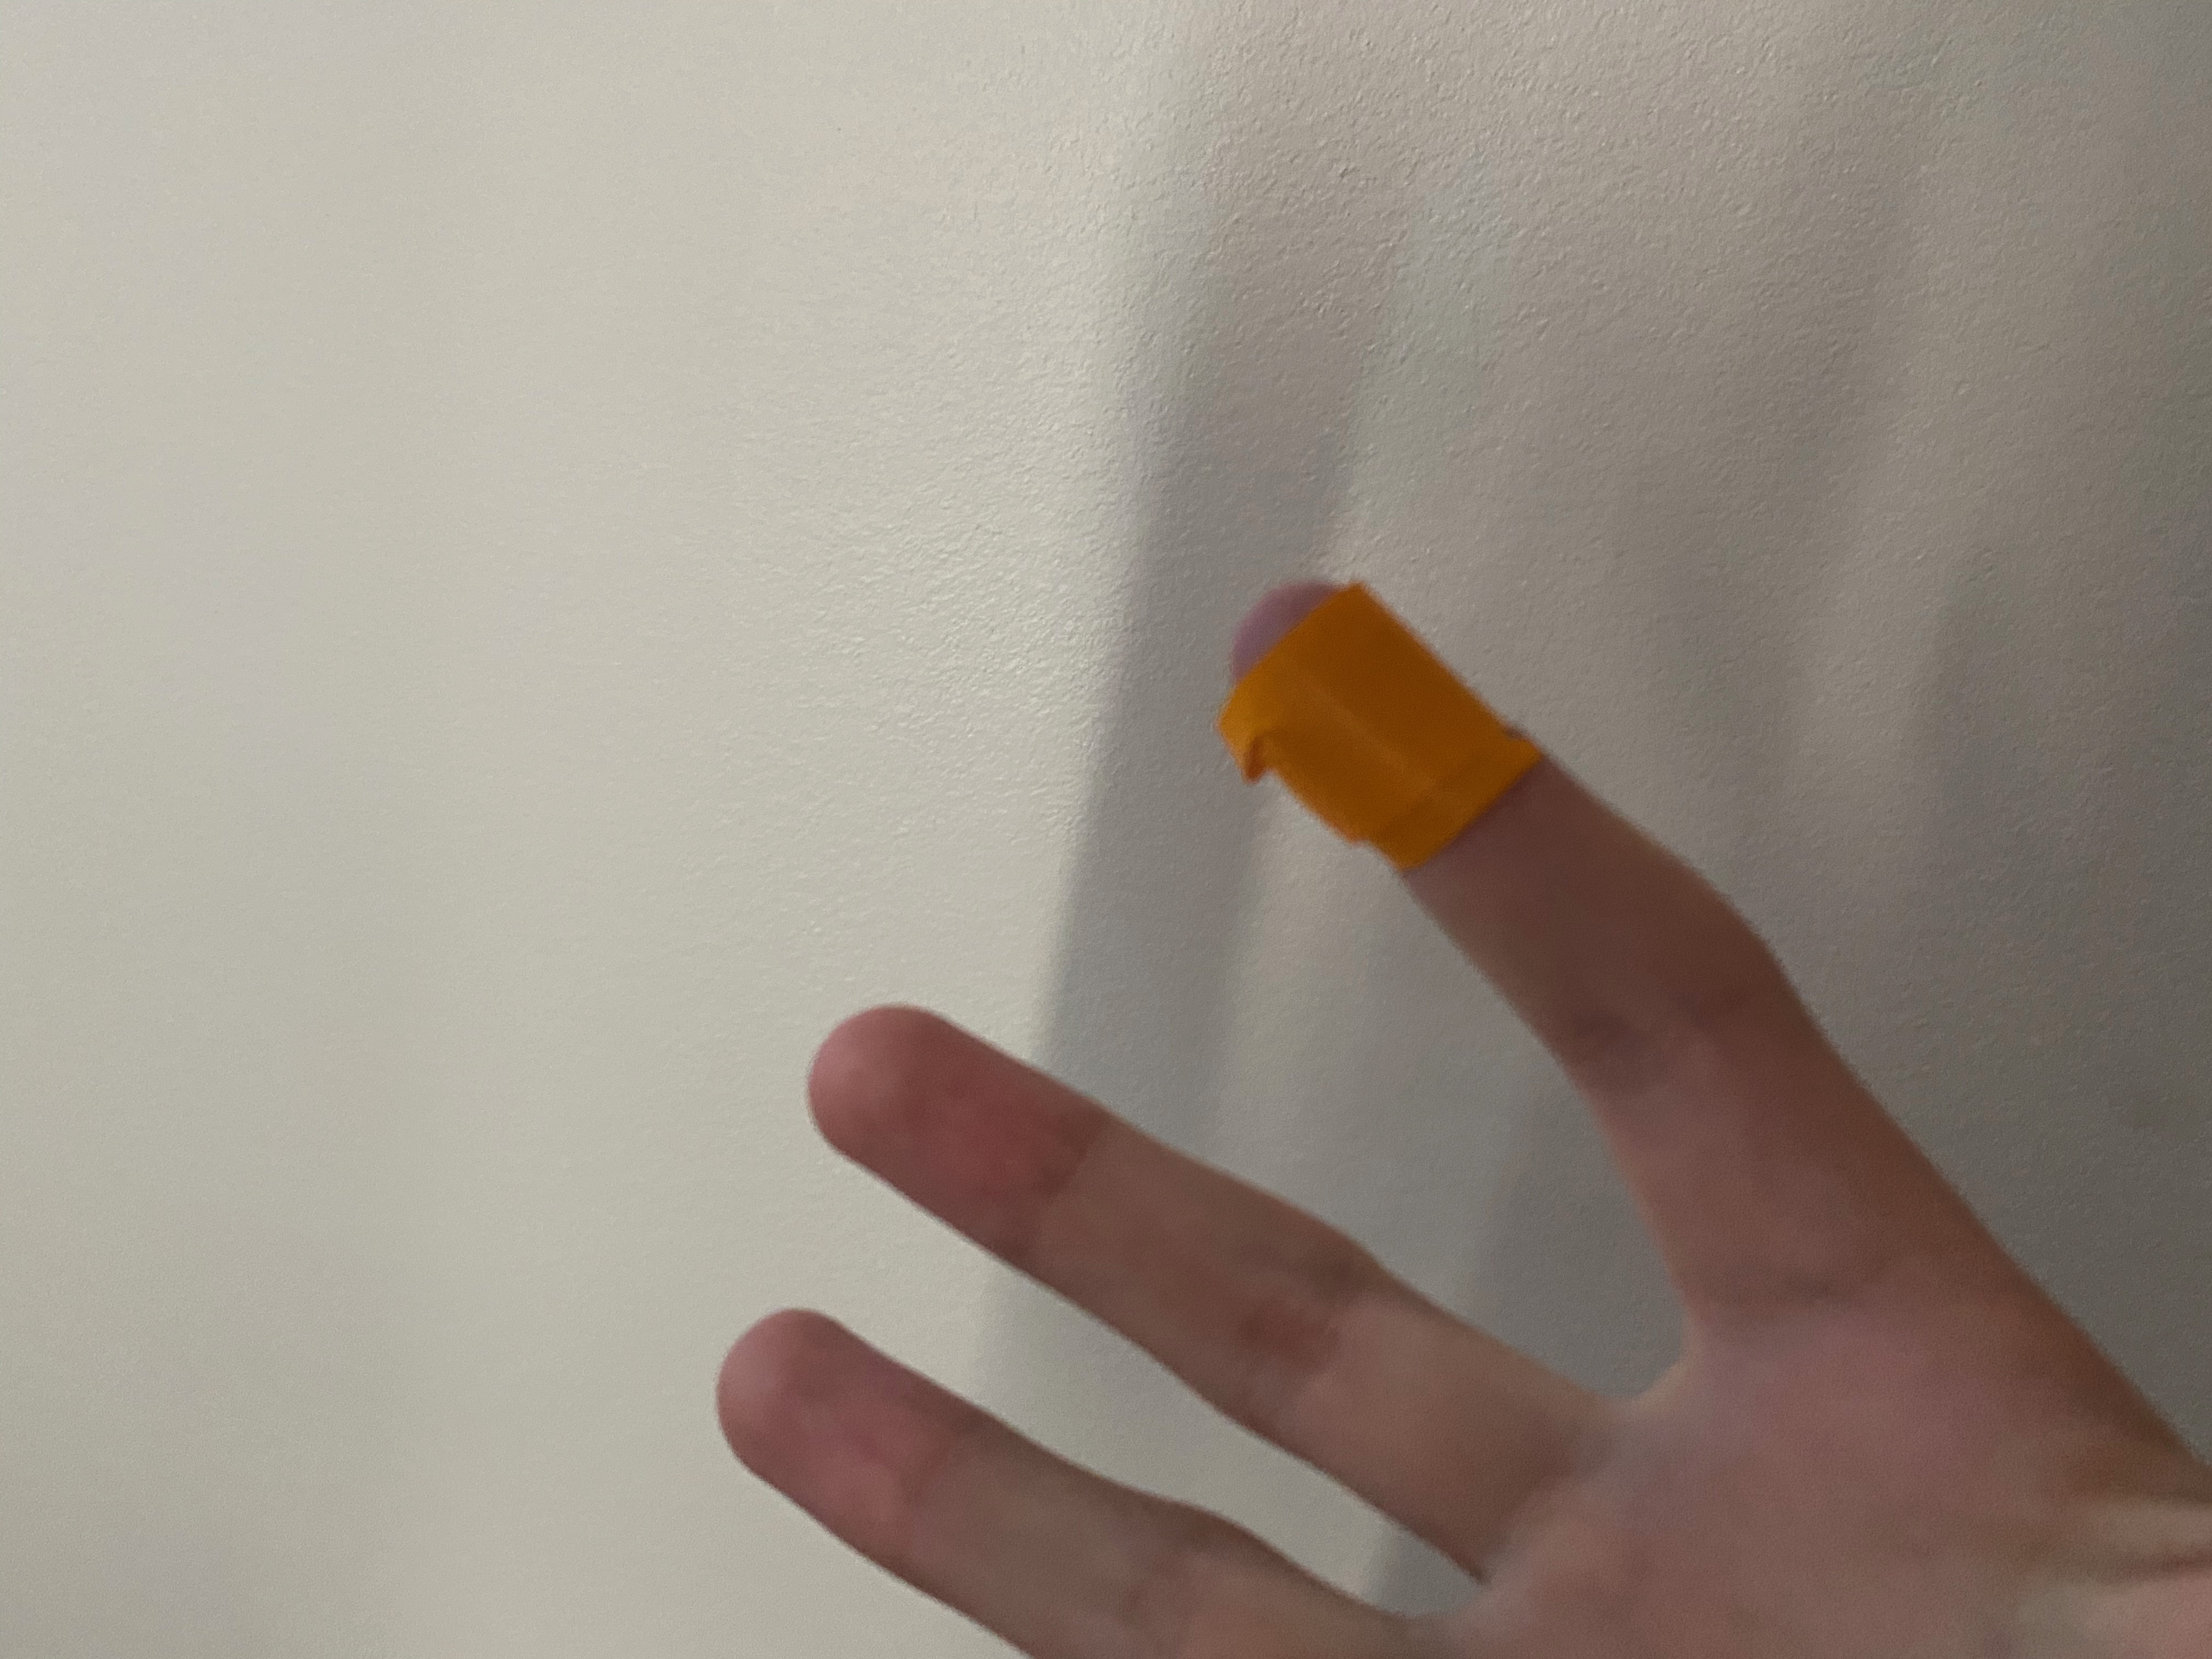fingertip: (1197, 556, 1521, 864)
